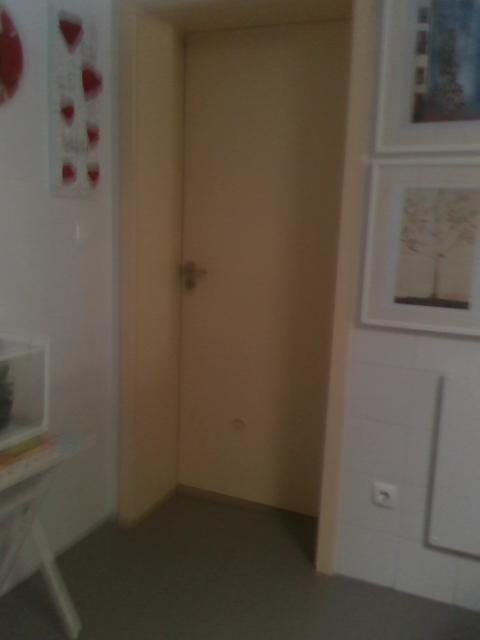door: (175, 25, 352, 516)
